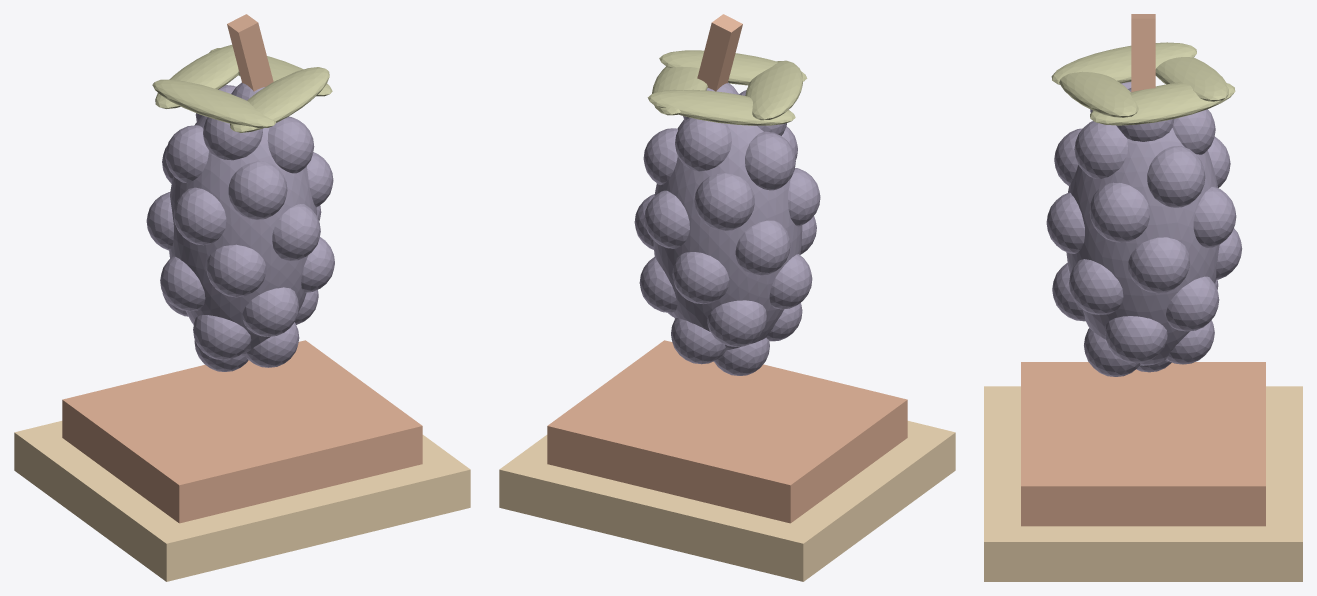
File: item_mulberry.glb
3 renders of one model, left to right at view 1: azimuth 30°, elevation 25°; view 2: azimuth 150°, elevation 25°; view 3: azimuth 270°, elevation 25°, orthographic. The views are drawn at different scales.
Visible parts, largest first — view 1: Platform_Top, Platform_Low, Core, Leaf_3, Drupe_6, Leaf_0, Drupe_14, Drupe_9, Stem, Drupe_19, Drupe_11, Drupe_3 (+11 smaller); view 2: Platform_Top, Platform_Low, Core, Leaf_2, Drupe_7, Drupe_2, Leaf_3, Drupe_12, Drupe_15, Drupe_4, Drupe_20, Stem (+10 smaller); view 3: Platform_Top, Platform_Low, Core, Drupe_8, Leaf_1, Drupe_5, Drupe_13, Leaf_0, Drupe_3, Drupe_21, Leaf_3, Drupe_16 (+13 smaller).
Boxes of the visible parts, bbox=[...] form: Platform_Top: bbox=[62, 340, 422, 523]; Platform_Low: bbox=[14, 421, 470, 581]; Core: bbox=[169, 115, 316, 355]; Leaf_3: bbox=[152, 79, 275, 127]; Drupe_6: bbox=[228, 161, 287, 219]; Leaf_0: bbox=[230, 67, 329, 132]; Drupe_14: bbox=[206, 244, 266, 297]; Drupe_9: bbox=[173, 187, 226, 245]; Stem: bbox=[227, 14, 273, 91]; Drupe_19: bbox=[242, 287, 298, 336]; Drupe_11: bbox=[272, 204, 320, 260]; Drupe_3: bbox=[267, 116, 314, 173]; Platform_Top: bbox=[547, 340, 907, 523]; Platform_Low: bbox=[499, 421, 955, 581]; Core: bbox=[653, 120, 802, 350]; Leaf_2: bbox=[647, 89, 795, 125]; Drupe_7: bbox=[694, 173, 754, 230]; Drupe_2: bbox=[675, 117, 731, 171]; Leaf_3: bbox=[745, 60, 802, 120]; Drupe_12: bbox=[735, 220, 790, 275]; Drupe_15: bbox=[672, 252, 729, 303]; Drupe_4: bbox=[745, 131, 795, 190]; Drupe_20: bbox=[707, 300, 766, 346]; Stem: bbox=[697, 14, 742, 91]; Platform_Top: bbox=[1021, 362, 1265, 526]; Platform_Low: bbox=[984, 386, 1302, 581]; Core: bbox=[1066, 128, 1219, 365]; Drupe_8: bbox=[1089, 182, 1149, 242]; Leaf_1: bbox=[1090, 82, 1235, 125]; Drupe_5: bbox=[1147, 146, 1205, 207]; Drupe_13: bbox=[1128, 237, 1189, 293]; Leaf_0: bbox=[1059, 71, 1138, 117]; Drupe_3: bbox=[1074, 121, 1127, 178]; Drupe_21: bbox=[1104, 316, 1167, 363]; Leaf_3: bbox=[1051, 42, 1196, 84]; Drupe_16: bbox=[1069, 259, 1123, 314].
Size of the model in its own units: 0.75 by 1.1 by 0.65.
